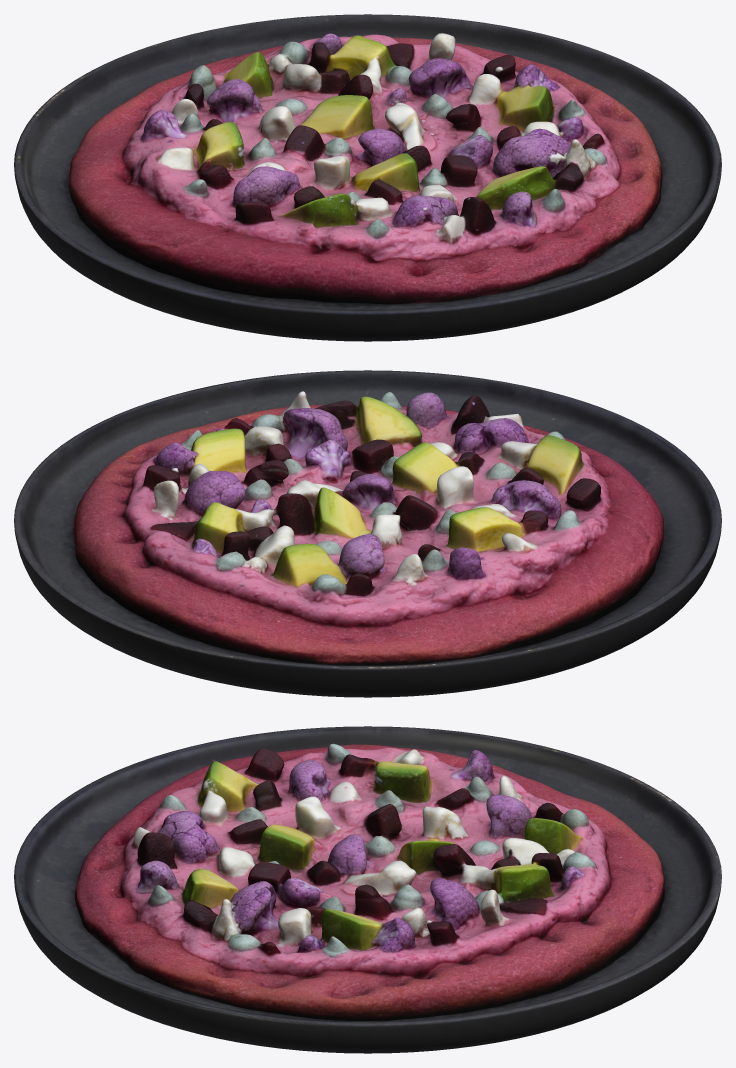
File: Purple Perfection.FBX
3 views of the same model, one above another, from view 1: azimuth 30°, elevation 25°; view 2: azimuth 150°, elevation 25°; view 3: azimuth 270°, elevation 25° (orthographic).
Visible parts, largest first — view 1: Dish9 _Purple Perfection; view 2: Dish9 _Purple Perfection; view 3: Dish9 _Purple Perfection.
Part boxes in pixels (x1,y1,x2,y2): Dish9 _Purple Perfection: (14,14,721,341); Dish9 _Purple Perfection: (14,370,721,697); Dish9 _Purple Perfection: (14,726,721,1053).
Bounding box in the file's own units: 25.49 × 3.78 × 25.49.
Materials: 1 (1 with a texture image).
